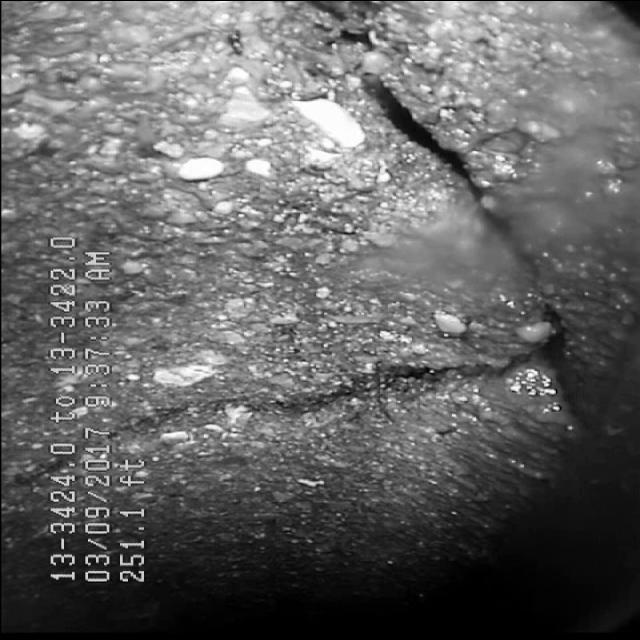Crack: (188, 146, 600, 446)
